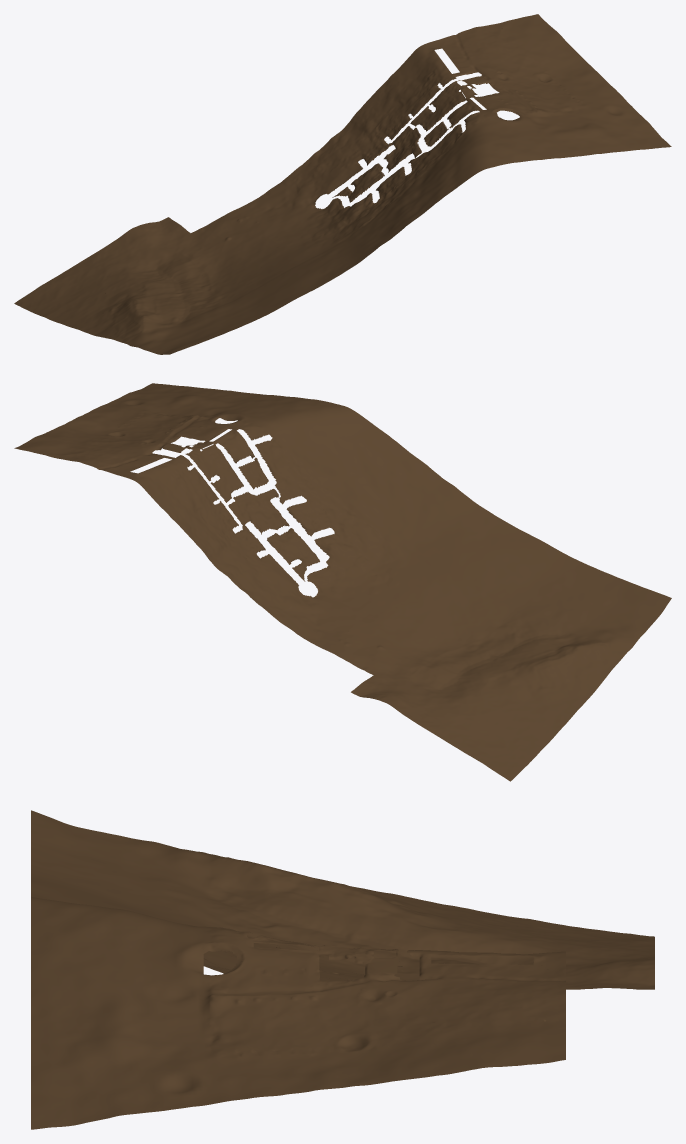
The model's file is MoonTown_Master_Hev.glb.
3 views of the same model, one above another, from view 1: azimuth 30°, elevation 25°; view 2: azimuth 150°, elevation 25°; view 3: azimuth 270°, elevation 25° (orthographic). The views are drawn at different scales.
Parts seen in each view (by area): view 1: Lalande_MoonTown; view 2: Lalande_MoonTown; view 3: Lalande_MoonTown.
Boxes of the visible parts, x1,y1,x2,y2 form: Lalande_MoonTown: (14,14,671,354); Lalande_MoonTown: (14,383,671,781); Lalande_MoonTown: (31,810,654,1129).
Bounding box in the file's own units: 6145 × 2168 × 3309.
